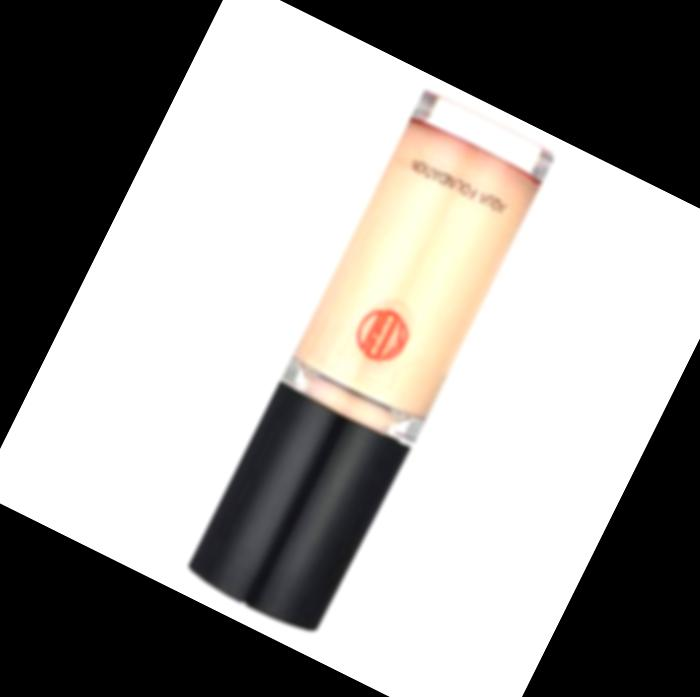cosmetic: (179, 82, 561, 640)
